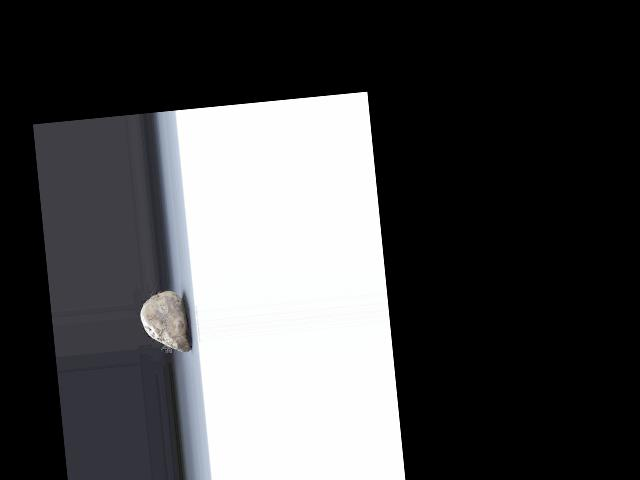beet: (139, 288, 191, 354)
